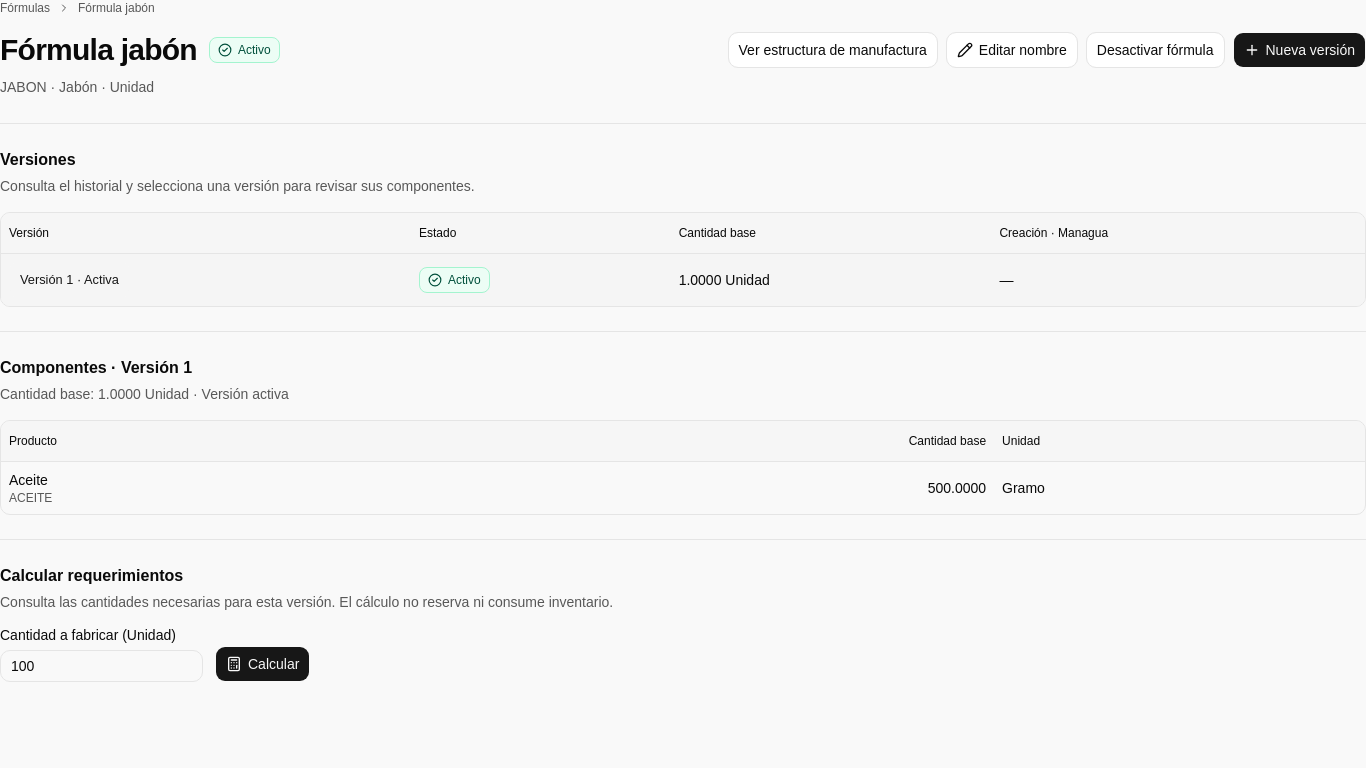
Producción: fórmulas y versiones › preserva componentes escritos si otra sesión desactiva la fórmula
Expected: the heading "Fórmula jabón" is shown, [0,32,197,68]
Click the button "Nueva versión".
click(1299, 50)  # box [1232,32,1365,68]
(page scrolled)
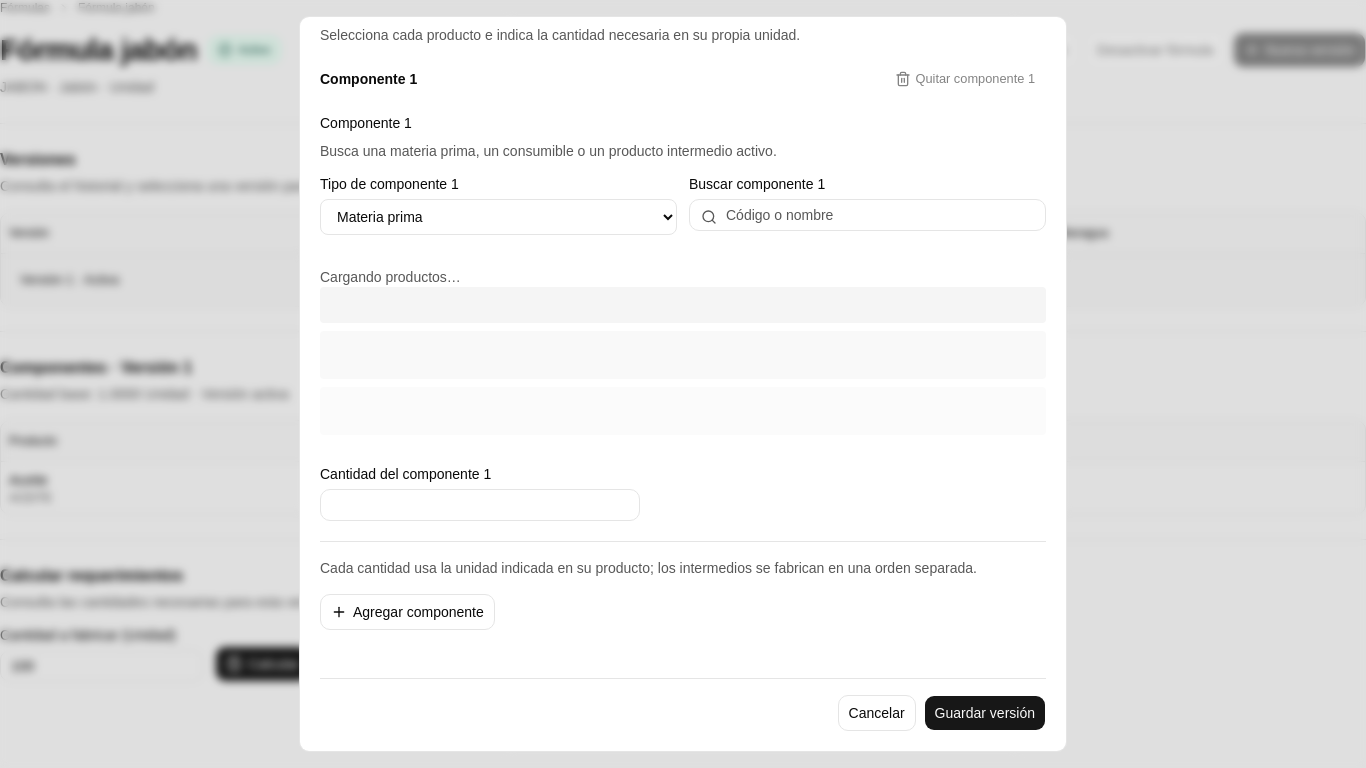
Type "123.4567" into the field labelled "Cantidad del componente 1".
click(480, 505); type("123.4567")  # box [320,489,640,521]
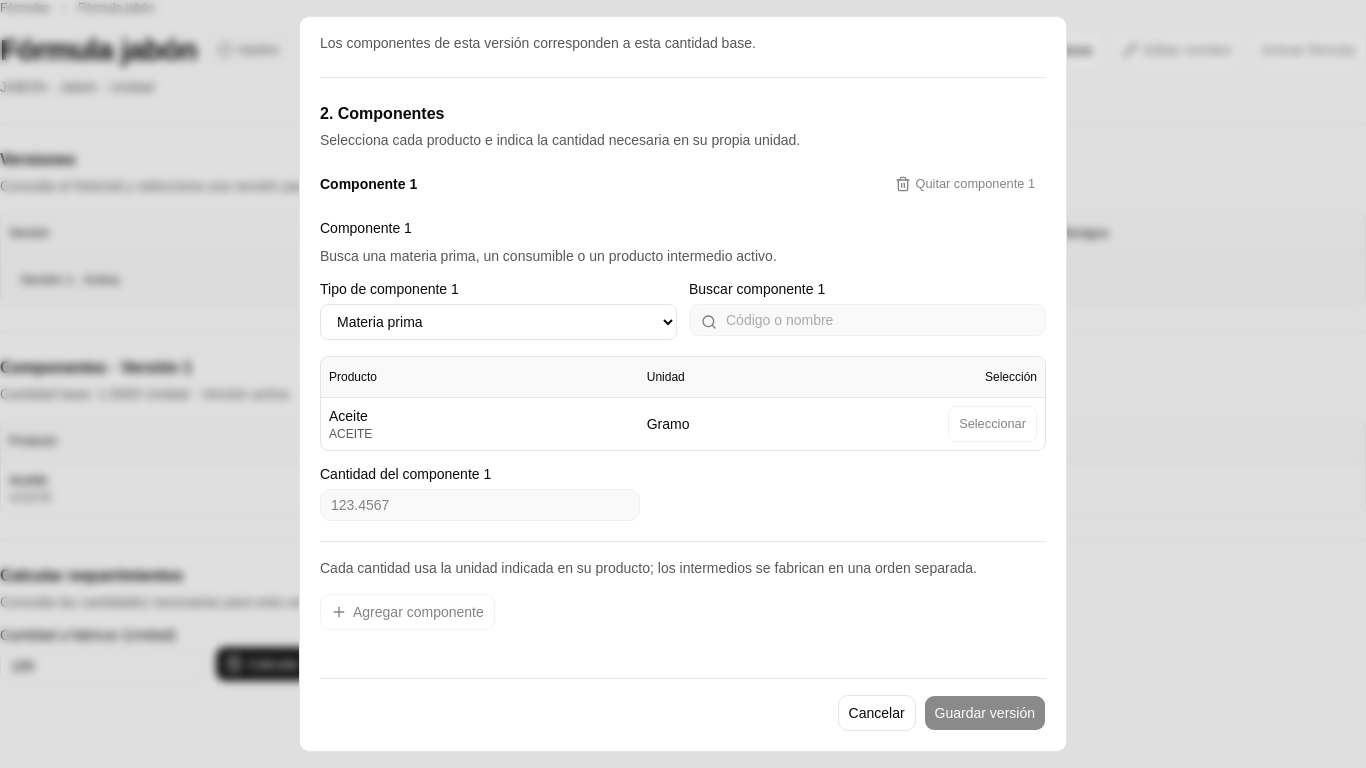
Now the button named "Desactivar fórmula" is disabled, box [1251,32,1365,68]
Now the button "Guardar versión" is disabled, box [924,695,1046,731]
